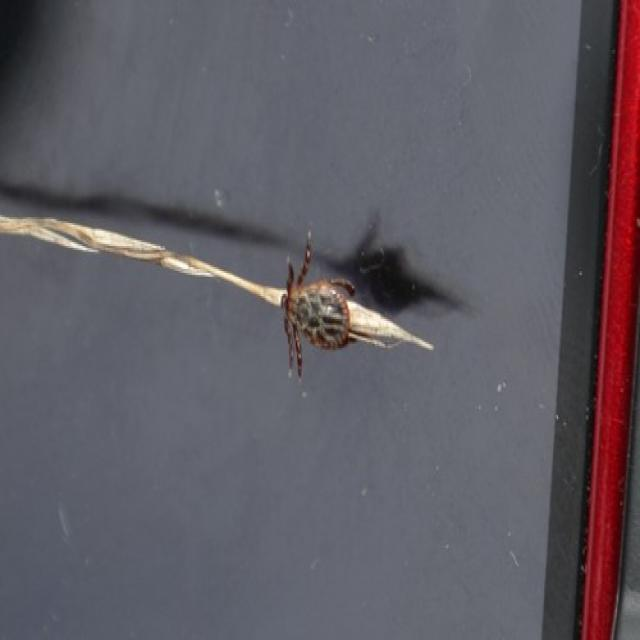Dermacentor Reticulatus-M: (279, 231, 356, 381)
